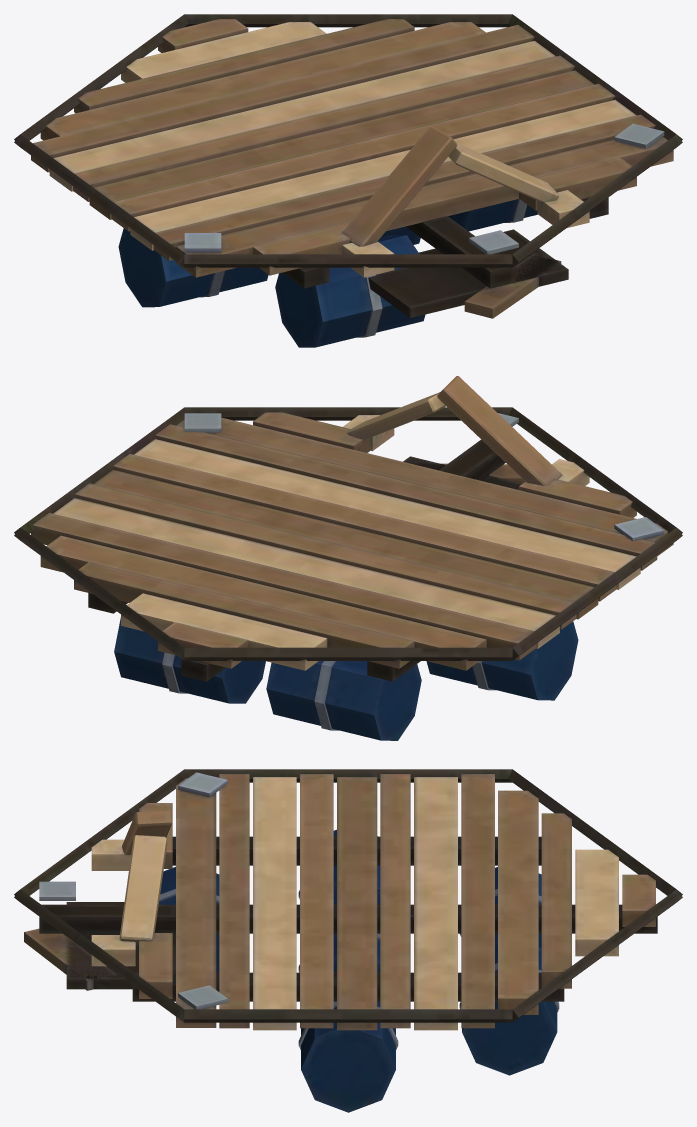
File: raft-damaged-age10.glb
3 renders of one model, top to bottom at view 1: azimuth 30°, elevation 25°; view 2: azimuth 150°, elevation 25°; view 3: azimuth 270°, elevation 25°, orthographic.
Parts seen in each view (by area): view 1: raft-damaged-age10; view 2: raft-damaged-age10; view 3: raft-damaged-age10.
Part boxes in pixels (bbox=[...]): raft-damaged-age10: bbox=[14, 14, 682, 347]; raft-damaged-age10: bbox=[14, 376, 682, 740]; raft-damaged-age10: bbox=[14, 769, 682, 1112].
Bounding box in the file's own units: 1.59 × 0.6018 × 1.83.
1 material, 1 textured.
